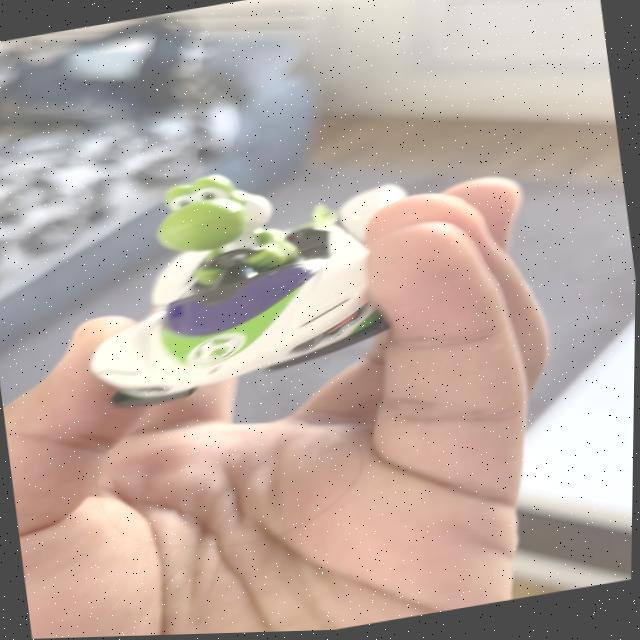yoshi: (47, 125, 427, 427)
